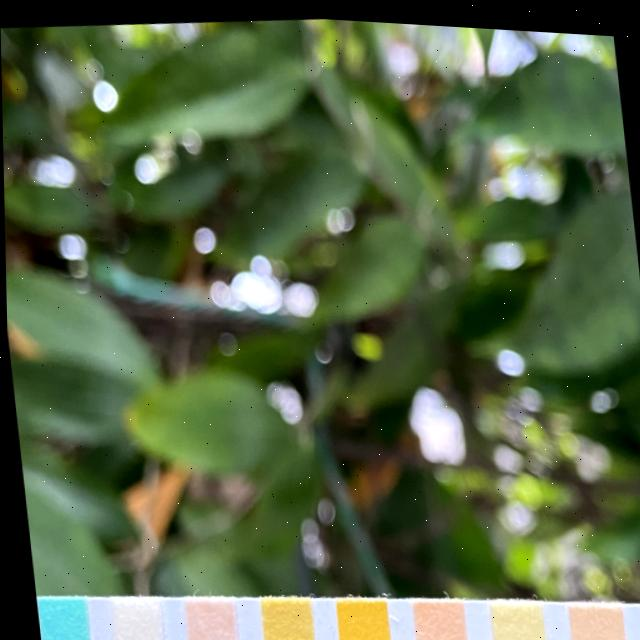Bilirubin: (108, 593, 160, 640)
Blood: (335, 594, 388, 640)
Glucose: (34, 593, 87, 640)
Ketone: (180, 592, 234, 640)
Protein: (489, 594, 543, 640)
SpGravity: (260, 595, 312, 640)
Urobilinogen: (568, 597, 621, 640)
pH: (411, 594, 465, 640)
